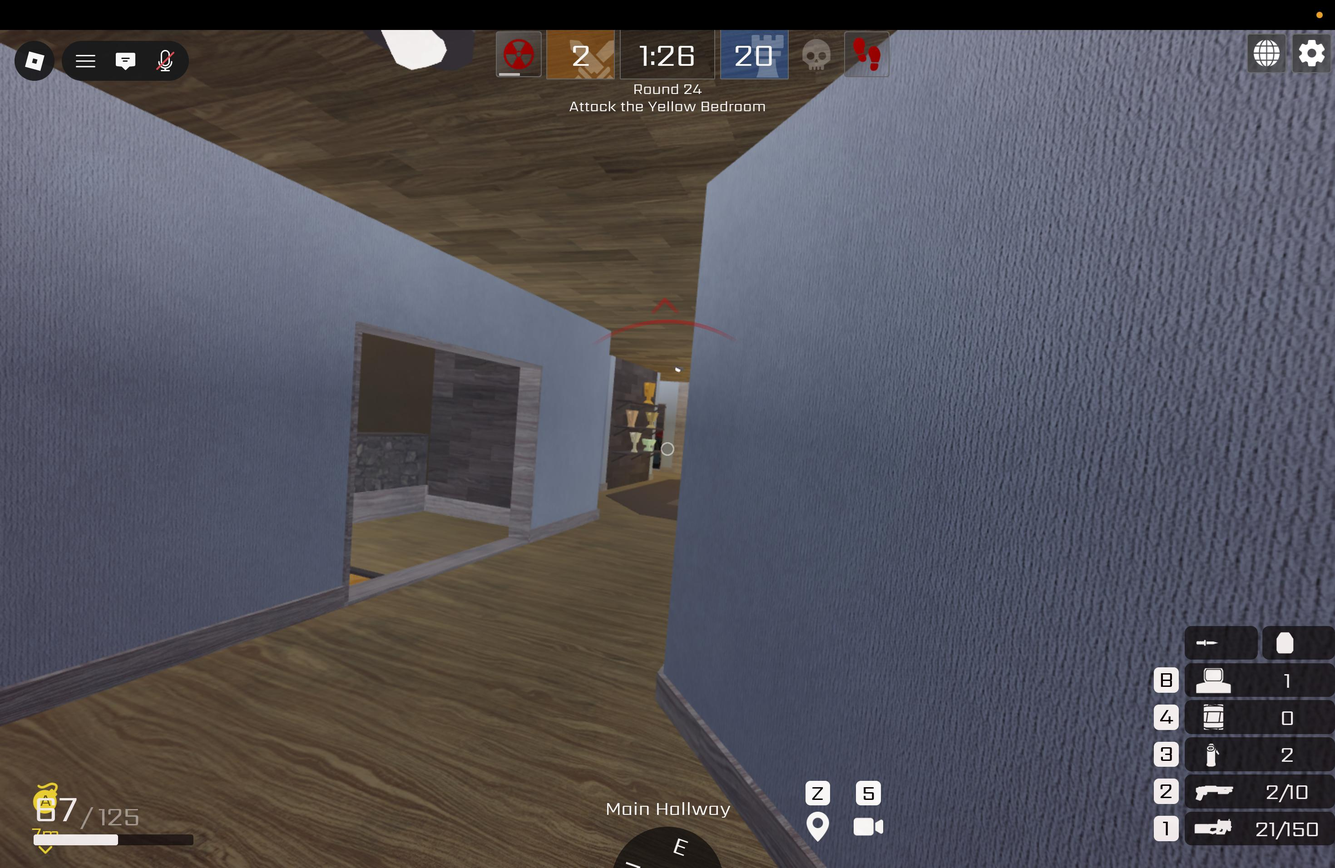enemy: (652, 429, 662, 470)
